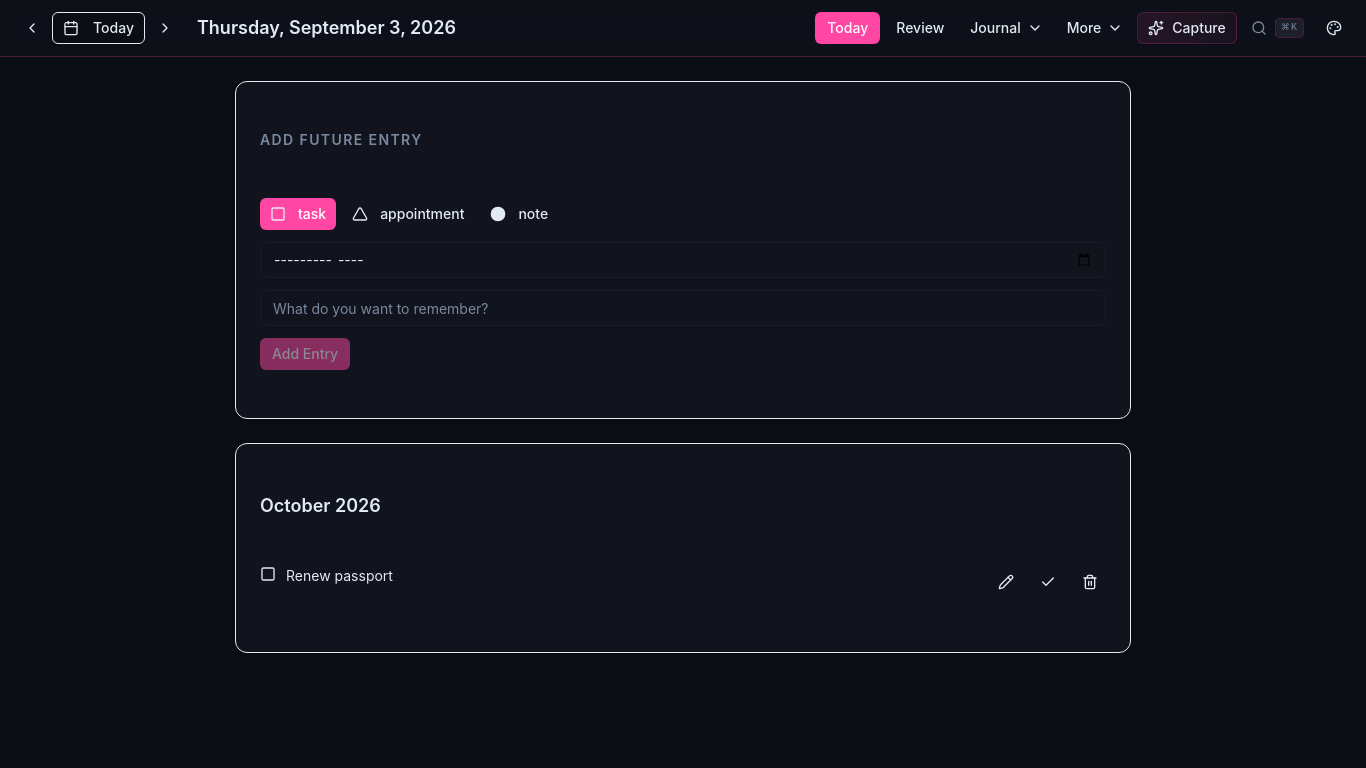
Test case: Future Log lifecycle › preserves the entry and offers retry when deleting fails
The image size is (1366, 768).
Click the button named "Delete Renew passport". click: (1090, 582)
box: x1=1074 y1=566 x2=1106 y2=598
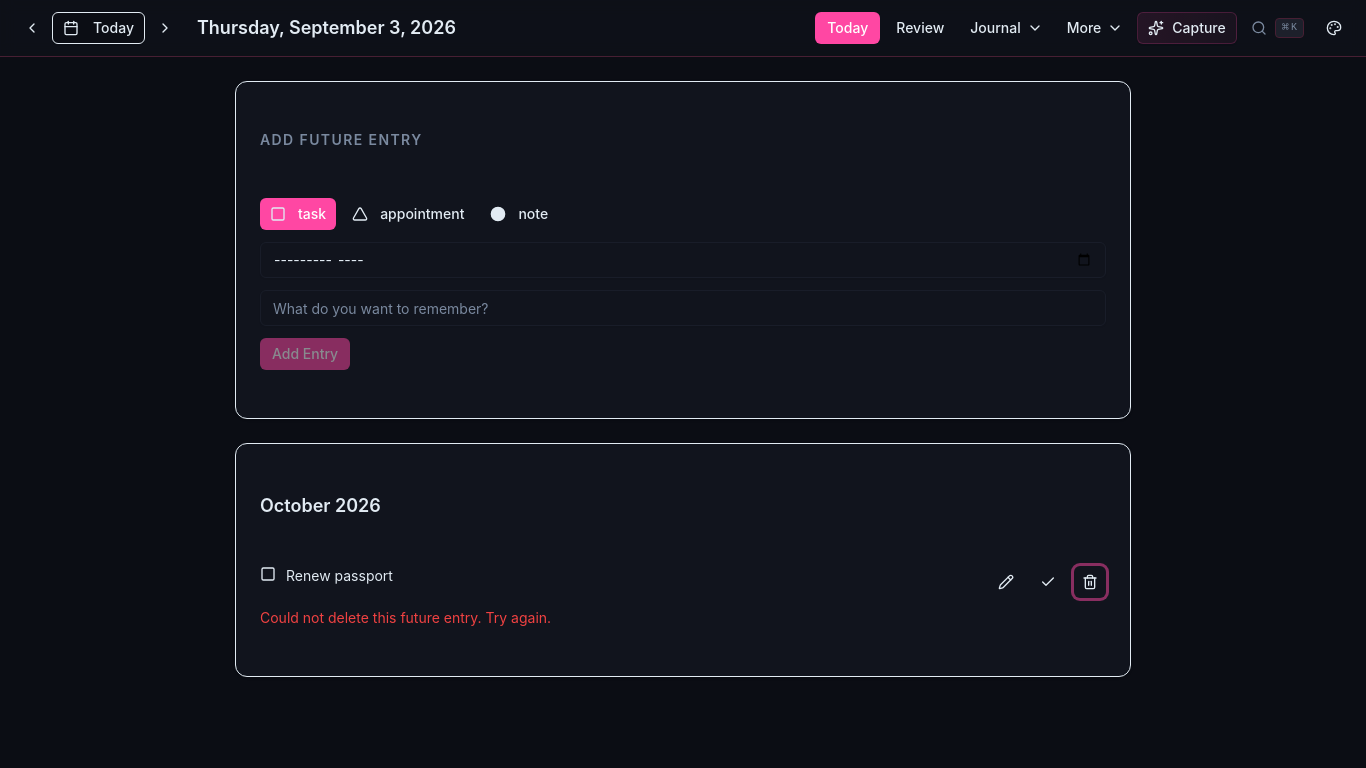
Check: the text "Renew passport" is shown, box x1=286 y1=567 x2=393 y2=584
Check: the message reads "Could not delete this future entry. Try again.", box x1=260 y1=609 x2=551 y2=626
